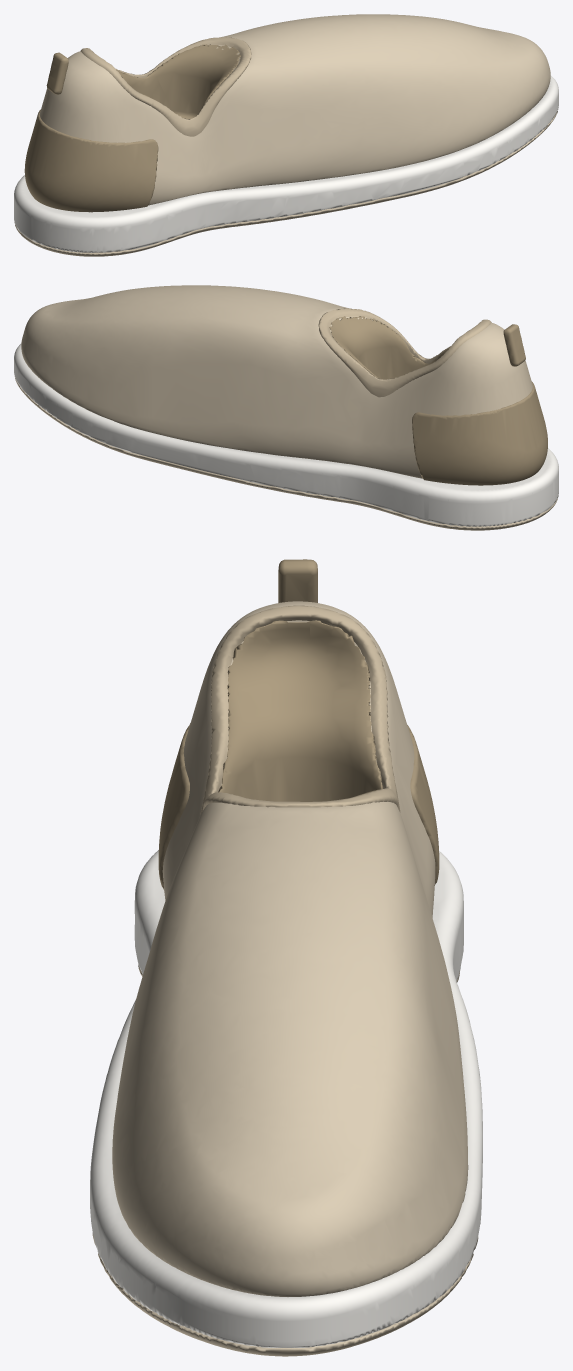
The model's file is cloudstep-everyday.glb.
3 renders of one model, top to bottom at view 1: azimuth 30°, elevation 25°; view 2: azimuth 150°, elevation 25°; view 3: azimuth 270°, elevation 25°, orthographic. The views are drawn at different scales.
Parts seen in each view (by area): view 1: upper, midsole, heel_counter, lining, collar, outsole; view 2: upper, midsole, heel_counter, lining, collar, outsole; view 3: upper, midsole, lining, collar, heel_counter, outsole.
Boxes of the visible parts, x1,y1,x2,y2 form: upper: (39, 14, 550, 205); midsole: (14, 75, 558, 252); heel_counter: (24, 52, 158, 212); lining: (116, 44, 240, 119); collar: (80, 37, 251, 136); outsole: (14, 109, 558, 256); upper: (21, 285, 532, 478); midsole: (14, 344, 558, 526); heel_counter: (412, 324, 547, 485); lining: (329, 316, 449, 379); collar: (318, 308, 491, 397); outsole: (14, 376, 558, 530); upper: (112, 601, 468, 1296); midsole: (90, 850, 482, 1347); lining: (218, 620, 383, 801); collar: (200, 605, 400, 814); heel_counter: (158, 559, 439, 889); outsole: (92, 965, 478, 1356).
Size of the model in its own units: 0.978 by 0.3182 by 0.3171.
